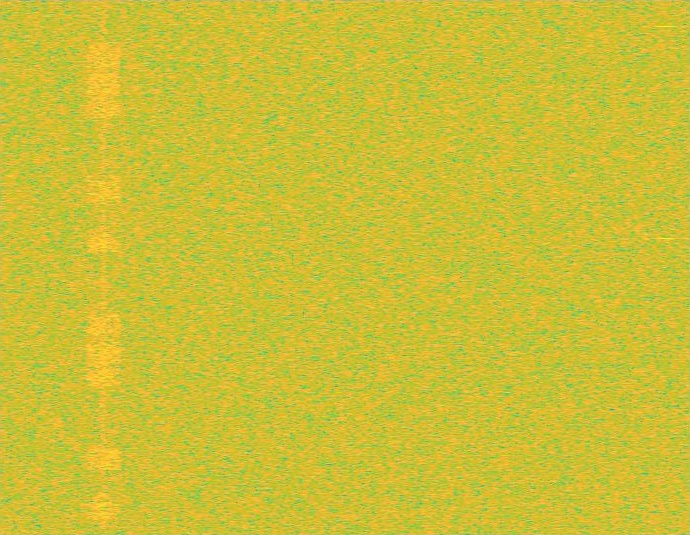DSSS: (101, 0, 106, 534)
LTE: (86, 0, 121, 534)
Radar: (659, 0, 672, 534)
